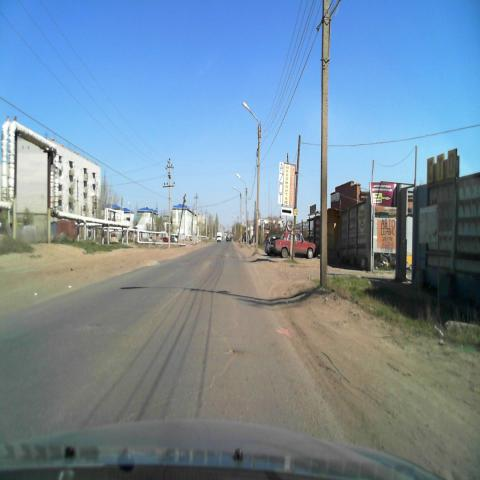8_3_1: (281, 206, 293, 216)
